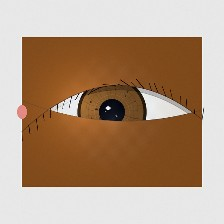pinguecula_lesion: (52, 105, 80, 128)
